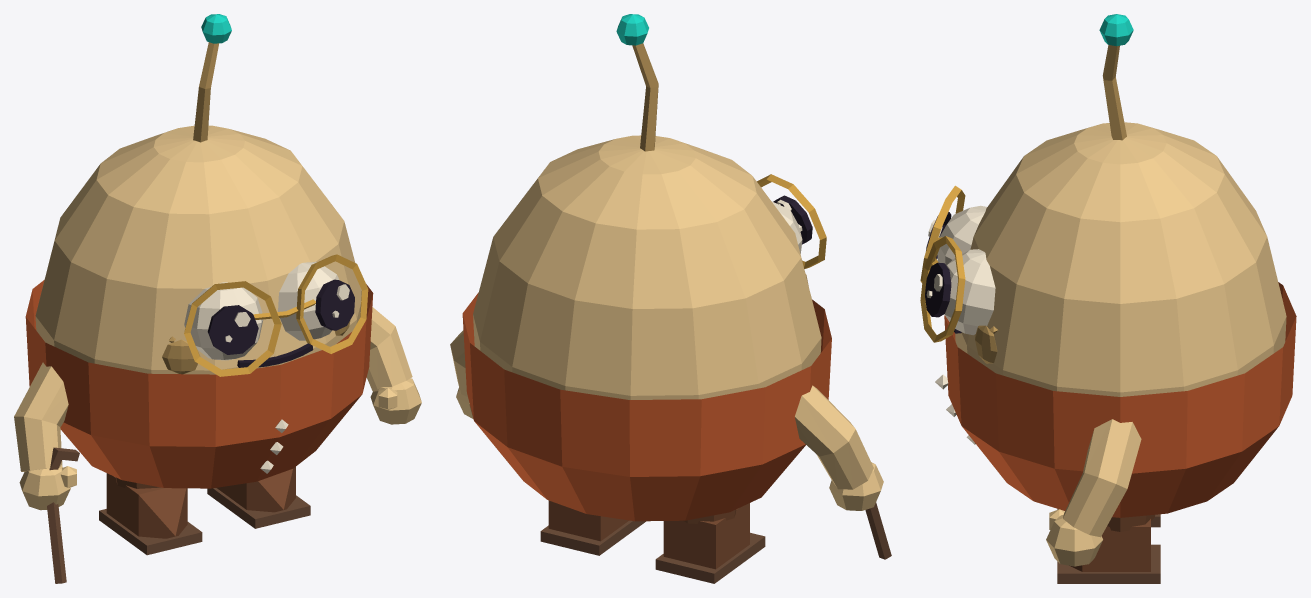
File: Char_Native_Elder.obj
3 views of the same model, side by side, from view 1: azimuth 30°, elevation 25°; view 2: azimuth 150°, elevation 25°; view 3: azimuth 270°, elevation 25° (orthographic). The views are drawn at different scales.
Parts seen in each view (by area): view 1: Char_Native_Elder_Body, Char_Native_Elder_Head, Char_Native_Elder_Arm_R, Char_Native_Elder_Leg_R, Char_Native_Elder_Arm_L, Char_Native_Elder_Leg_L; view 2: Char_Native_Elder_Body, Char_Native_Elder_Arm_R, Char_Native_Elder_Leg_R, Char_Native_Elder_Head, Char_Native_Elder_Leg_L, Char_Native_Elder_Arm_L; view 3: Char_Native_Elder_Body, Char_Native_Elder_Head, Char_Native_Elder_Arm_L, Char_Native_Elder_Leg_L.
Boxes of the visible parts, box(x1,y1,x2,y2) form: Char_Native_Elder_Body: box(25, 125, 373, 488); Char_Native_Elder_Head: box(162, 14, 368, 376); Char_Native_Elder_Arm_R: box(14, 362, 79, 583); Char_Native_Elder_Leg_R: box(99, 473, 202, 555); Char_Native_Elder_Arm_L: box(366, 307, 421, 424); Char_Native_Elder_Leg_L: box(207, 467, 310, 528); Char_Native_Elder_Body: box(462, 135, 831, 521); Char_Native_Elder_Arm_R: box(794, 385, 891, 559); Char_Native_Elder_Leg_R: box(655, 503, 765, 583); Char_Native_Elder_Head: box(616, 14, 826, 285); Char_Native_Elder_Leg_L: box(540, 500, 645, 555); Char_Native_Elder_Arm_L: box(450, 330, 473, 419); Char_Native_Elder_Body: box(935, 122, 1296, 517); Char_Native_Elder_Head: box(920, 14, 1133, 363); Char_Native_Elder_Arm_L: box(1046, 419, 1141, 566); Char_Native_Elder_Leg_L: box(1057, 514, 1160, 583).
Size of the model in its own units: 1.29 by 1.54 by 0.9851.
